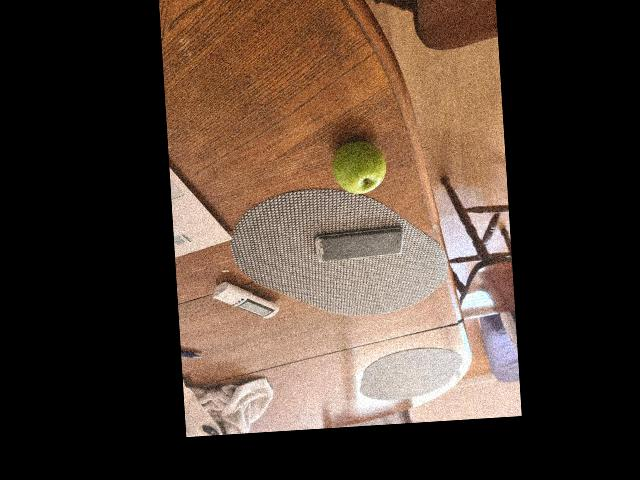apple: (330, 138, 385, 194)
